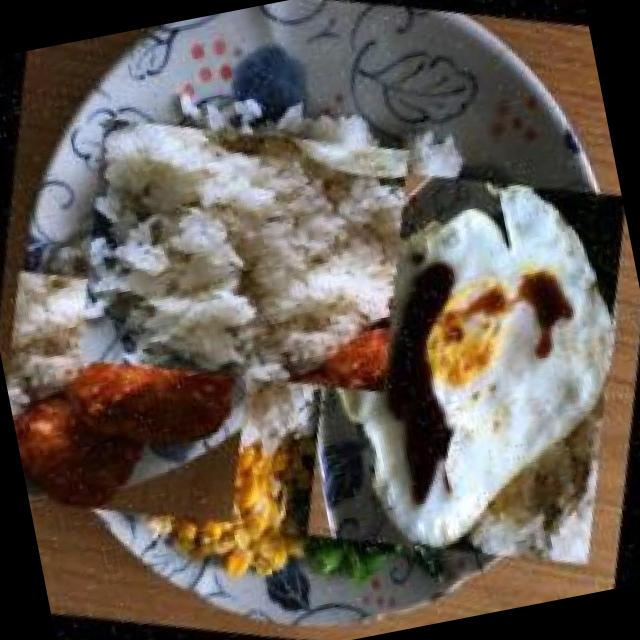fried_eggs: (234, 113, 640, 615)
rice: (41, 53, 443, 456)
triangle_hash_brown: (0, 226, 296, 563)
